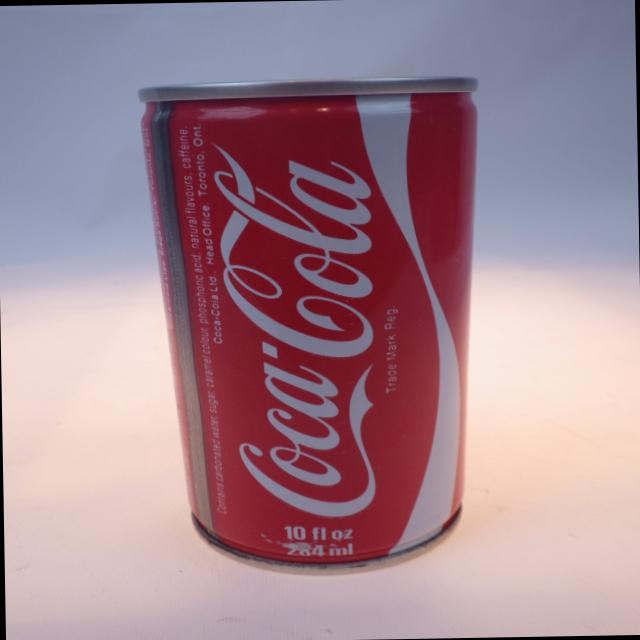cocacola: (125, 70, 489, 576)
